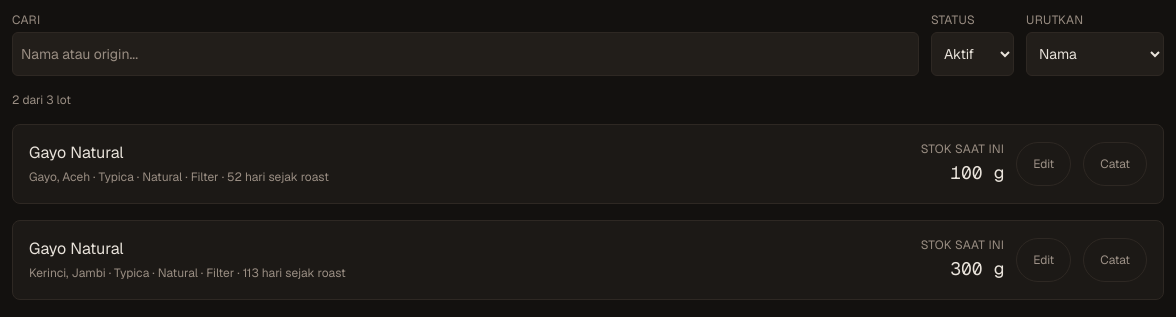
Scenario: LotList pencarian › hasil kosong menampilkan pesan dan tombol Hapus pencarian
In the search field labelled "Cari": (466,54) [12,32,919,76], type "tidak ada begini"
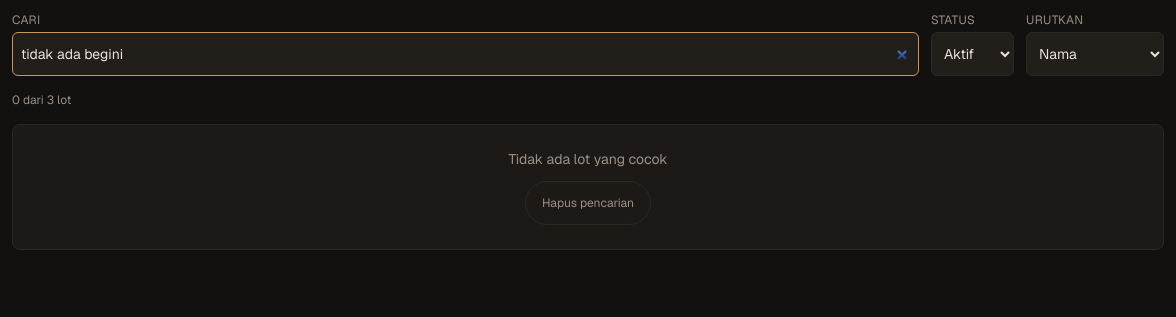
Expected: the text "Tidak ada lot yang cocok" is shown, [508,150,668,168]
Click the button "Hapus pencarian": (588,203) [525,181,651,225]
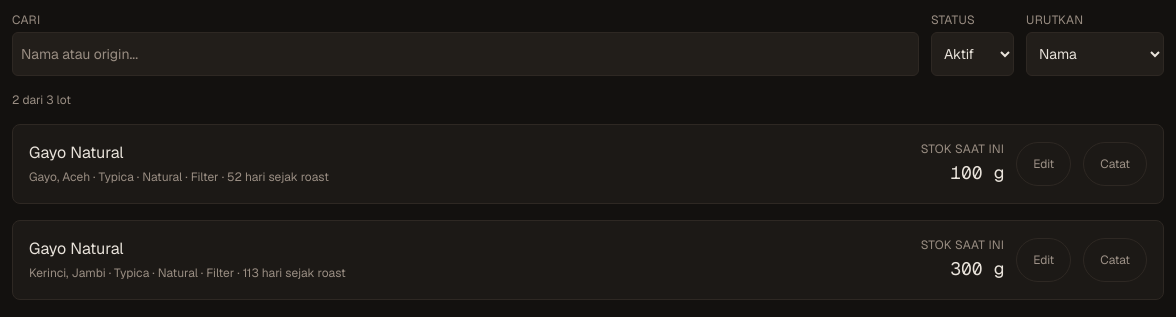
Expected: the text "Tidak ada lot yang cocok" is gone
Expected: the search field labelled "Cari" is empty, [12,32,919,76]
